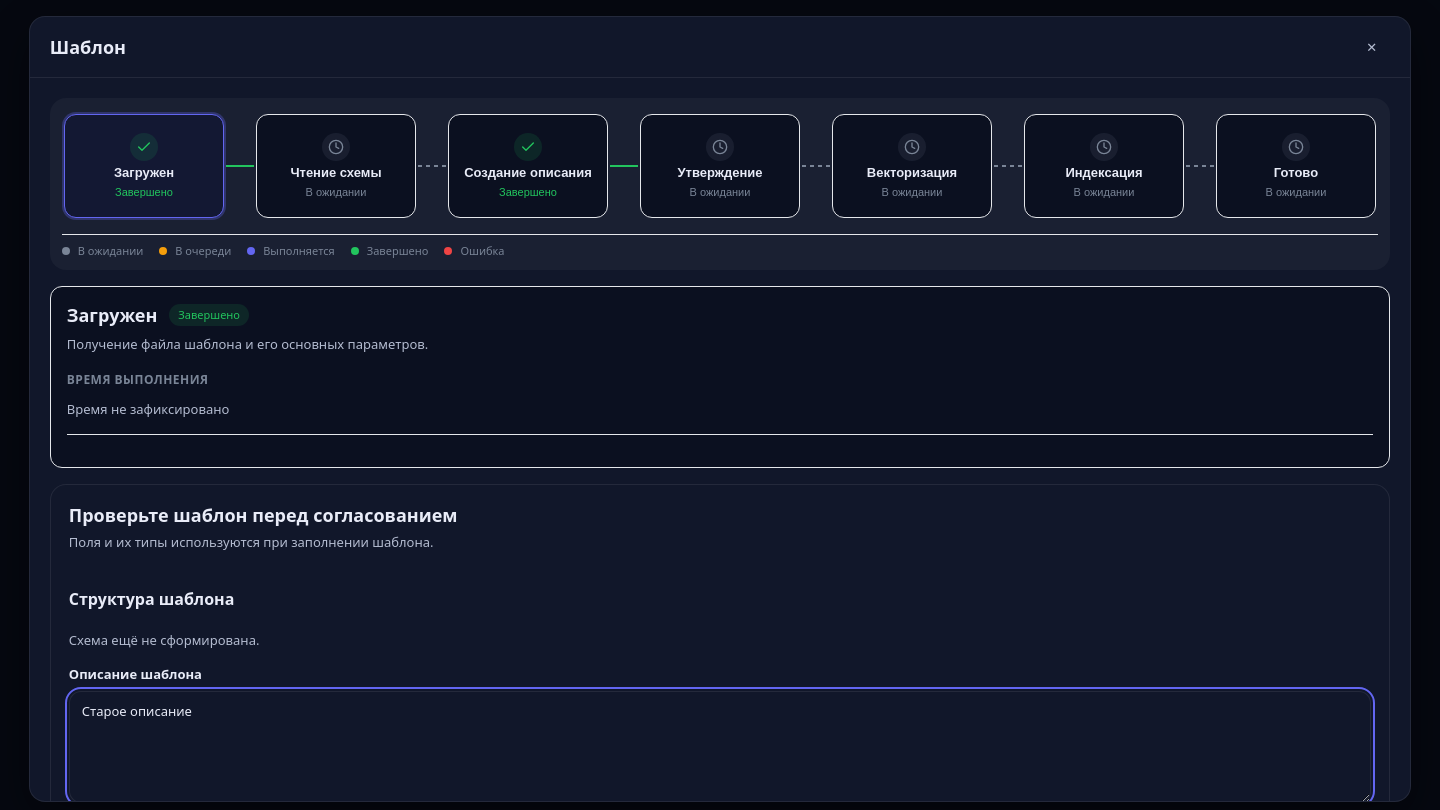
Test: keeps the edited description when the server revokes template access with 403
The width and height of the screenshot is (1440, 810).
Step 1. Replace the text in the text box labelled "Описание шаблона" with "Мой черновик" → (720, 747), box top-left (69, 691), bottom-right (1371, 803)
(page scrolled)
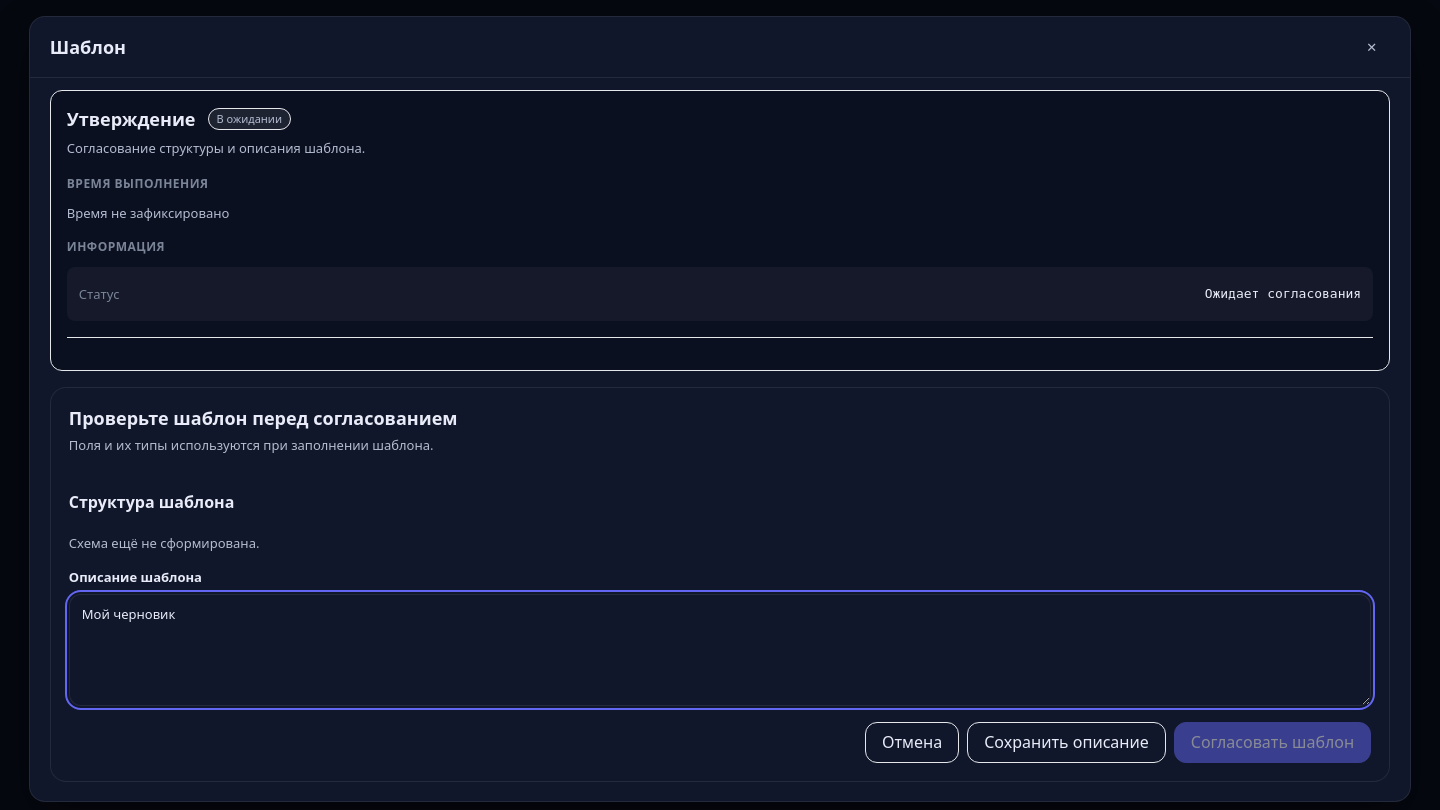
Step 2. Click the button "Сохранить описание" → (1066, 742), box top-left (967, 722), bottom-right (1166, 763)
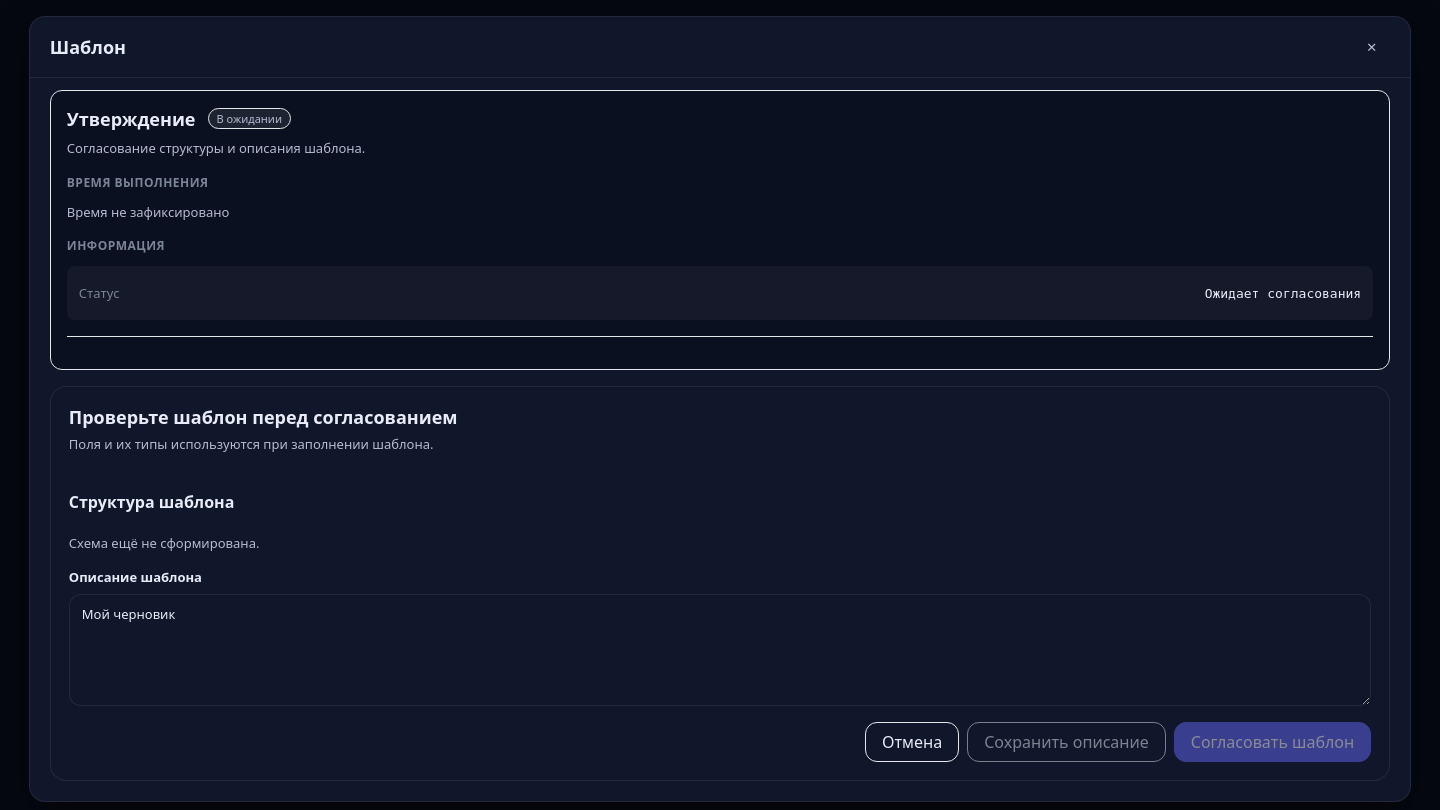
Expected: the text box labelled "Описание шаблона" is disabled, top-left (69, 594), bottom-right (1371, 706)
Now the button "Согласовать шаблон" is disabled, box top-left (1174, 722), bottom-right (1371, 762)
Now the button "Сохранить описание" is disabled, box top-left (967, 722), bottom-right (1166, 762)
